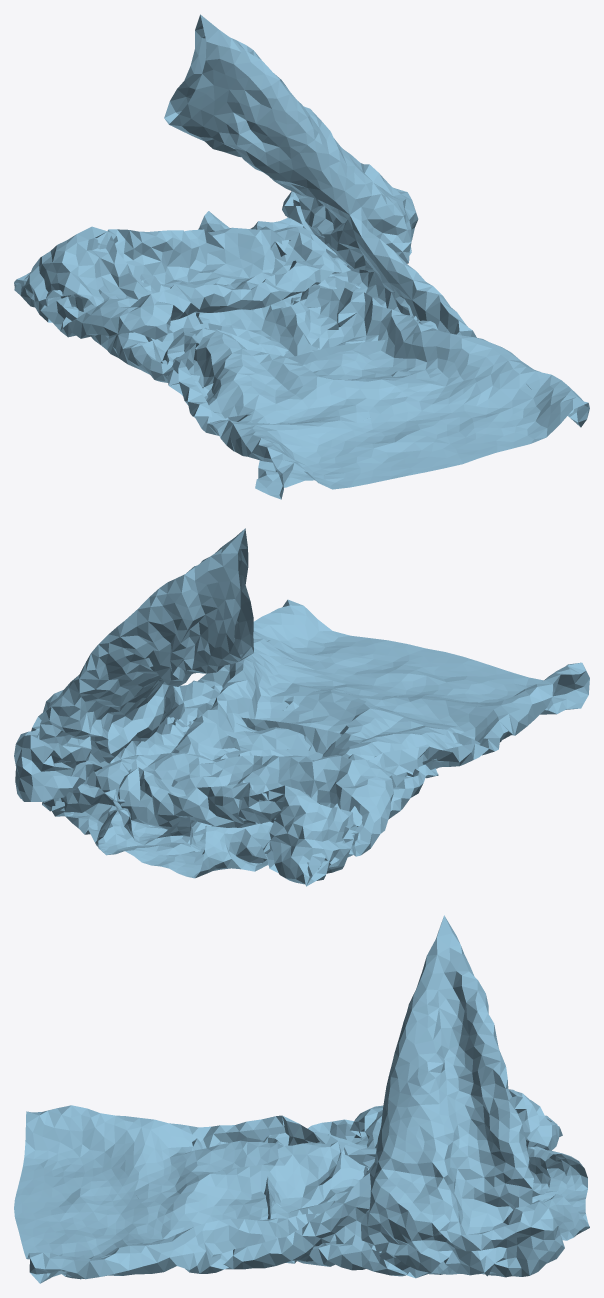
Rendered from frame_14.glb.
The picture shows the model from 3 angles, top to bottom: view 1: azimuth 30°, elevation 25°; view 2: azimuth 150°, elevation 25°; view 3: azimuth 270°, elevation 25°; orthographic projection. The views are drawn at different scales.
Parts seen in each view (by area): view 1: frame_14.obj; view 2: frame_14.obj; view 3: frame_14.obj.
Boxes of the visible parts, x1,y1,x2,y2 form: frame_14.obj: (14, 14, 589, 499); frame_14.obj: (14, 528, 589, 886); frame_14.obj: (14, 915, 589, 1283).
Bounding box in the file's own units: 0.9597 × 0.7946 × 1.43.
